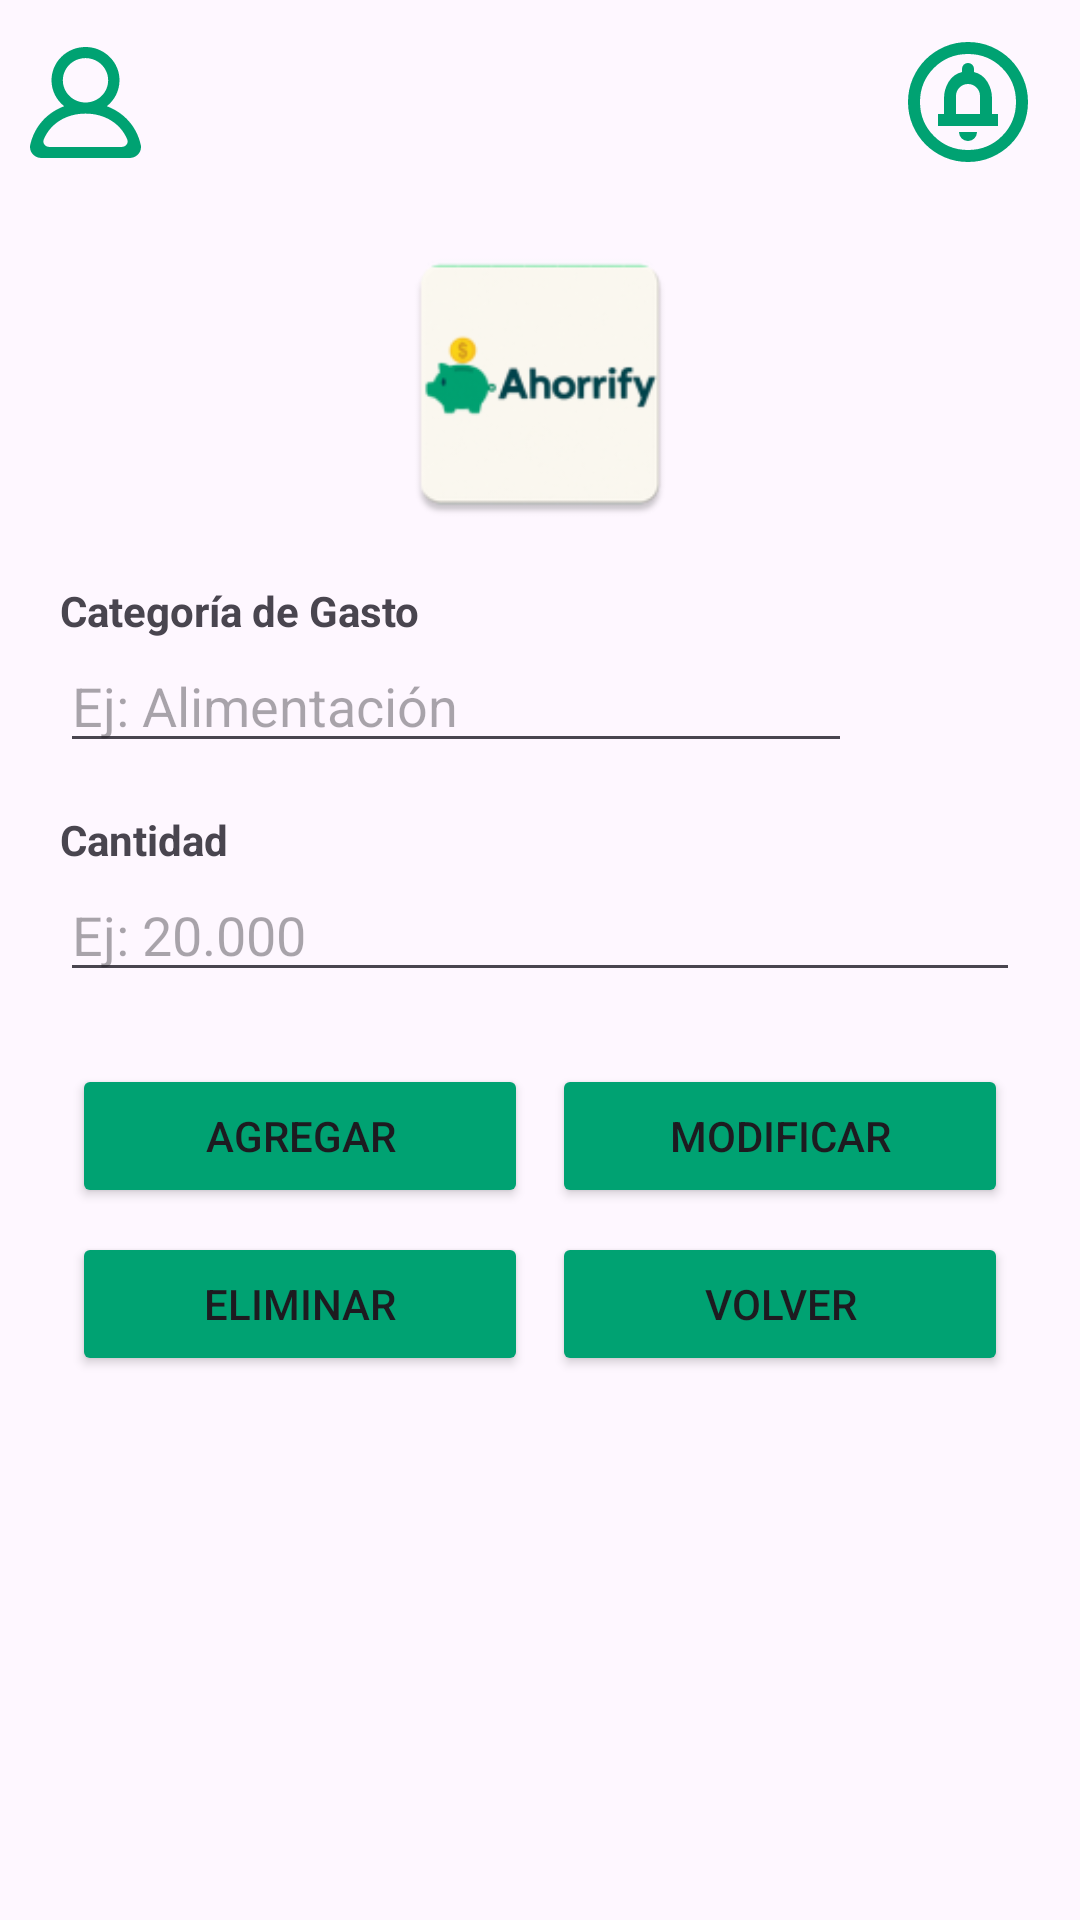

Named icons in this screenshot (1080px x 1920px) and their centers, (x,y):
circle notifications: (968,102)
profile round: (85,102)
